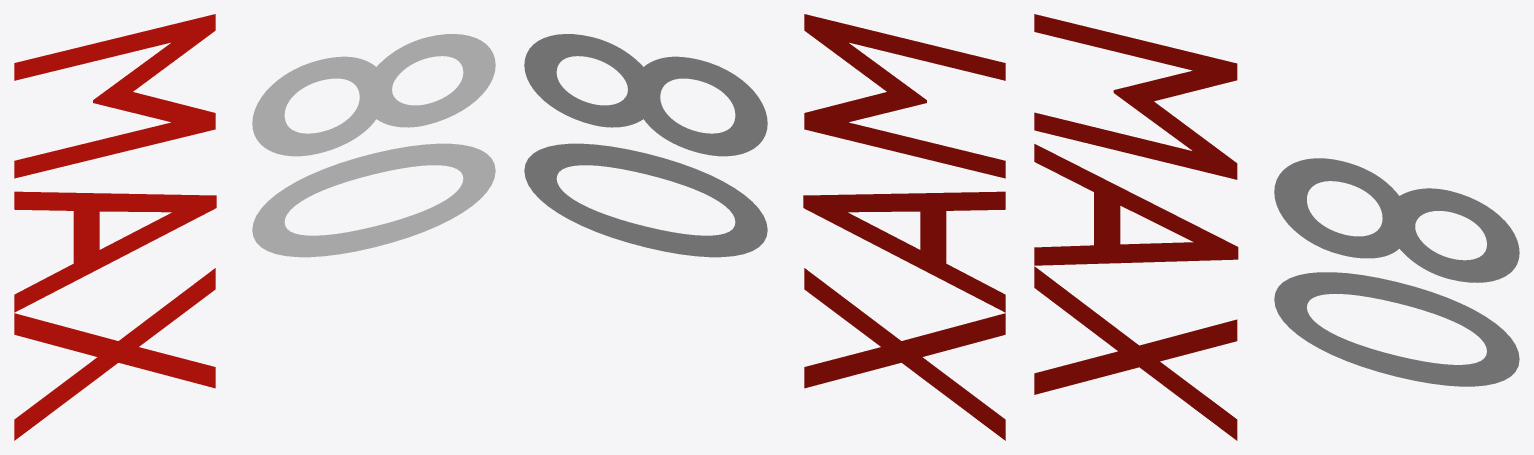
Rendered from 地面标识-限速上限80.gltf.
The picture shows the model from 3 angles, left to right: view 1: azimuth 30°, elevation 25°; view 2: azimuth 150°, elevation 25°; view 3: azimuth 330°, elevation 25°; orthographic projection.
Visible parts, largest first — view 1: 文本.002, 文本; view 2: 文本.002, 文本; view 3: 文本.002, 文本.
Boxes of the visible parts, box(x1,y1,x2,y2) form: 文本.002: box(14, 14, 216, 440); 文本: box(252, 34, 495, 257); 文本.002: box(803, 14, 1005, 440); 文本: box(524, 34, 767, 257); 文本.002: box(1034, 14, 1238, 440); 文本: box(1274, 158, 1519, 386).
Bounding box in the file's own units: 3.4 × 2.55 × 8.08e-07.
